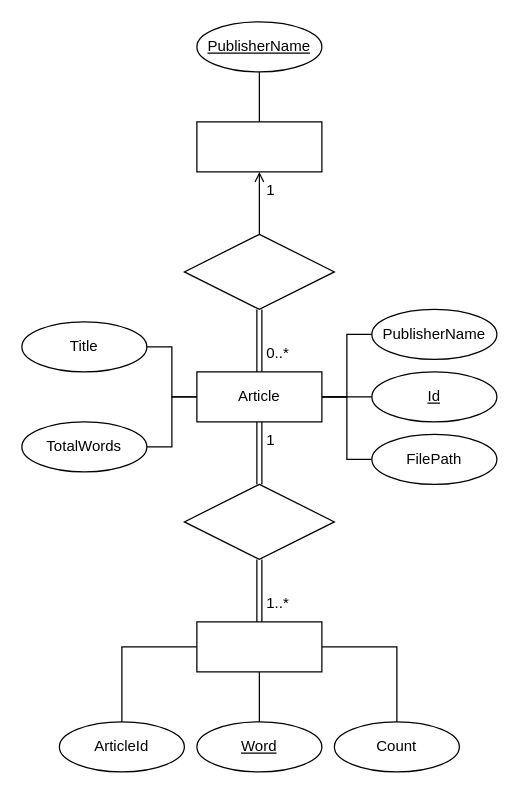
The diagram is 519 pixels wide and 794 high, and some of its shapes have lost their labels. The centre of each missing label's shape, as x and y in pixels:
"Contains" goes at point (258, 521).
"Publisher" goes at point (259, 146).
"Publishes" goes at point (258, 271).
"Term" goes at point (259, 646).
